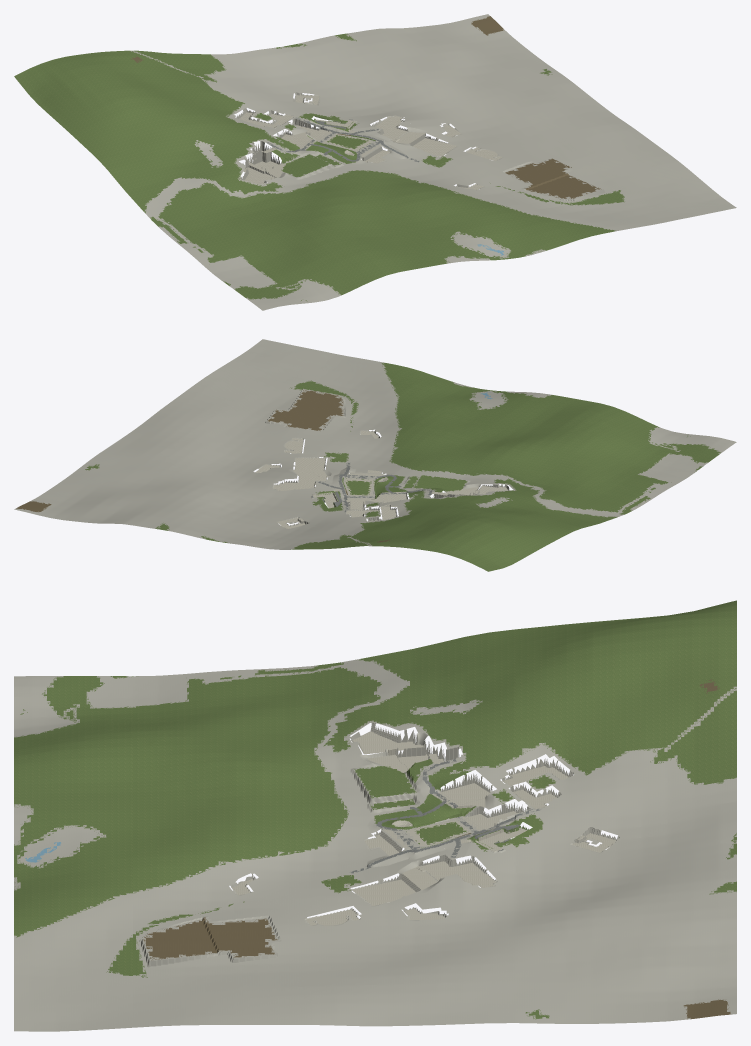
The picture shows the model from 3 angles, top to bottom: view 1: azimuth 30°, elevation 25°; view 2: azimuth 150°, elevation 25°; view 3: azimuth 270°, elevation 25°; orthographic projection. The views are drawn at different scales.
Visible parts, largest first — view 1: skku-base, skku-wood, skku-grass, skku-paving, skku-rockGarden, skku-planted, skku-wood-overlay, skku-asphalt, skku-sportsTurf; view 2: skku-base, skku-wood, skku-grass, skku-paving, skku-rockGarden, skku-planted, skku-wood-overlay, skku-sportsTurf, skku-asphalt; view 3: skku-base, skku-wood, skku-grass, skku-paving, skku-rockGarden, skku-planted, skku-wood-overlay, skku-sportsTurf, skku-asphalt, skku-grass-overlay.
Part boxes in pixels (x1,y1,x2,y2): skku-base: [130, 14, 736, 310]; skku-wood: [14, 33, 614, 299]; skku-grass: [75, 50, 624, 288]; skku-paving: [239, 95, 502, 189]; skku-rockGarden: [132, 16, 596, 198]; skku-planted: [272, 113, 375, 163]; skku-wood-overlay: [132, 34, 615, 299]; skku-asphalt: [270, 116, 416, 161]; skku-sportsTurf: [282, 154, 341, 177]; skku-base: [14, 339, 736, 549]; skku-wood: [156, 363, 719, 571]; skku-grass: [294, 381, 673, 550]; skku-paving: [255, 430, 507, 528]; skku-rockGarden: [16, 390, 388, 542]; skku-planted: [313, 475, 444, 511]; skku-wood-overlay: [155, 362, 720, 549]; skku-sportsTurf: [403, 475, 466, 491]; skku-asphalt: [312, 463, 431, 509]; skku-base: [14, 659, 736, 1031]; skku-wood: [14, 600, 736, 935]; skku-grass: [66, 623, 736, 975]; skku-paving: [231, 731, 616, 925]; skku-rockGarden: [144, 682, 730, 1019]; skku-planted: [374, 759, 542, 849]; skku-wood-overlay: [14, 659, 736, 937]; skku-sportsTurf: [355, 766, 415, 809]; skku-asphalt: [354, 761, 538, 871]; skku-grass-overlay: [65, 622, 736, 977].
Bounding box in the file's own units: 964 × 141 × 876.
Materials: 23 (21 with a texture image).
